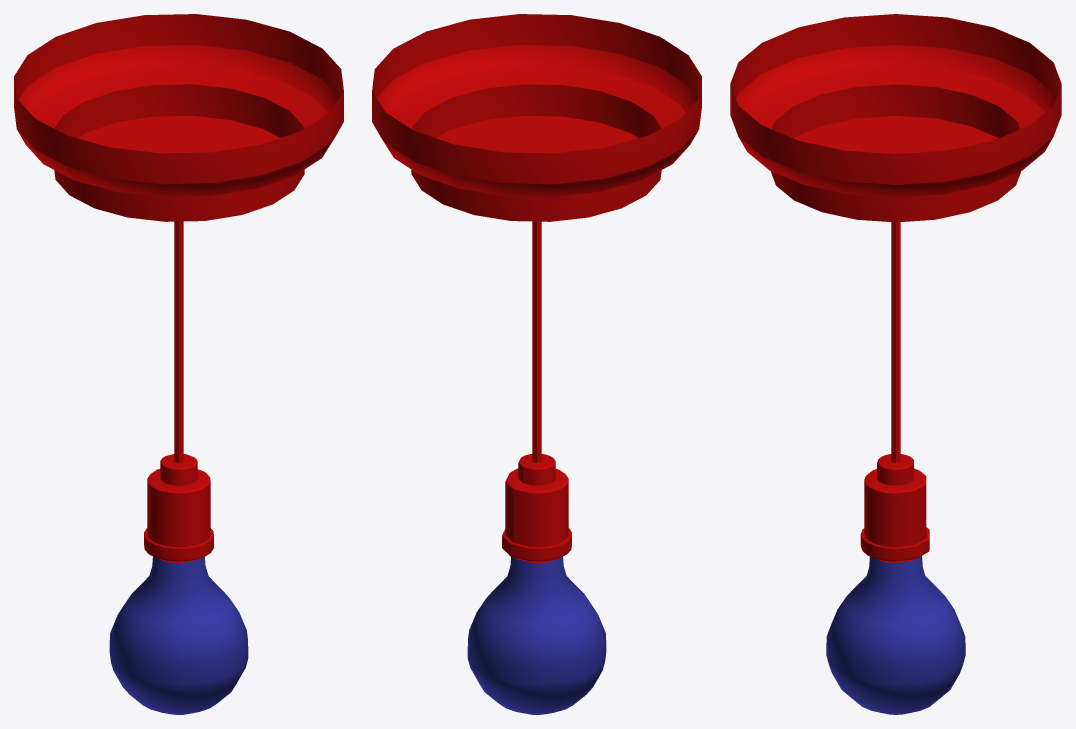
File: Lamp.fbx
3 renders of one model, left to right at view 1: azimuth 30°, elevation 25°; view 2: azimuth 150°, elevation 25°; view 3: azimuth 270°, elevation 25°, orthographic.
Visible parts, largest first — view 1: light; view 2: light; view 3: light.
Part boxes in pixels (x1,y1,x2,y2): light: (14, 14, 343, 714); light: (372, 14, 701, 714); light: (730, 14, 1061, 714).
Bounding box in the file's own units: 1.66 × 3.45 × 1.66.
